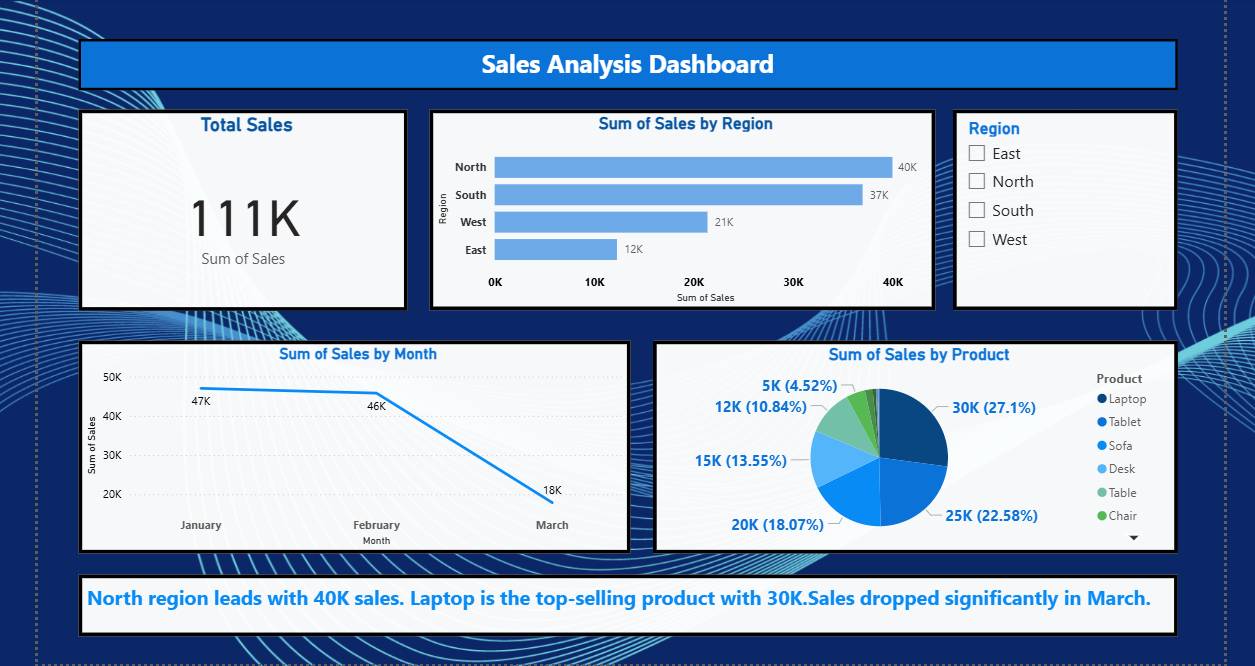

What the dashboard file says about the page in this screenshot:
{"tool":"powerbi","page":{"name":"Page 1","canvas":[1280,720],"ordinal":0},"visuals":[{"type":"card","title":"Total Sales","fields":{"Values":["Sum(Sheet1.Sales)"]},"box":[43.5,120.9,355.3,217.3],"z":0},{"type":"barChart","fields":{"Category":["Sheet1.Region"],"Y":["Sum(Sheet1.Sales)"]},"box":[422.6,121.4,545.7,217],"z":1000},{"type":"pieChart","fields":{"Category":["Sheet1.Product"],"Y":["Sum(Sheet1.Sales)"]},"box":[663.9,370.8,566.7,229.9],"z":2000},{"type":"lineChart","fields":{"Category":["Sheet1.OrderDate.Variation.Date Hierarchy.Month"],"Y":["Sum(Sheet1.Sales)"]},"box":[43.7,370.8,595.9,229.9],"z":3000},{"type":"slicer","fields":{"Values":["Sheet1.Region"]},"box":[987.7,121.4,242.9,217],"z":4000},{"type":"textbox","box":[43.7,45.3,1186.9,55.1],"z":5000},{"type":"textbox","box":[43.7,623.4,1186.9,66.4],"z":6000}]}

Visuals, with their boxes in screenshot pixels (x1, y1, x2, y2):
"Total Sales" card: (82,110,407,309)
barChart - Sheet1.Region x Sum(Sheet1.Sales): (428,111,927,309)
pieChart - Sheet1.Product x Sum(Sheet1.Sales): (649,339,1166,549)
lineChart - Sheet1.OrderDate.Variation.Date Hierarchy.Month x Sum(Sheet1.Sales): (82,339,627,549)
slicer - Sheet1.Region: (944,111,1166,309)
textbox: (82,41,1166,92)
textbox: (82,569,1166,630)
